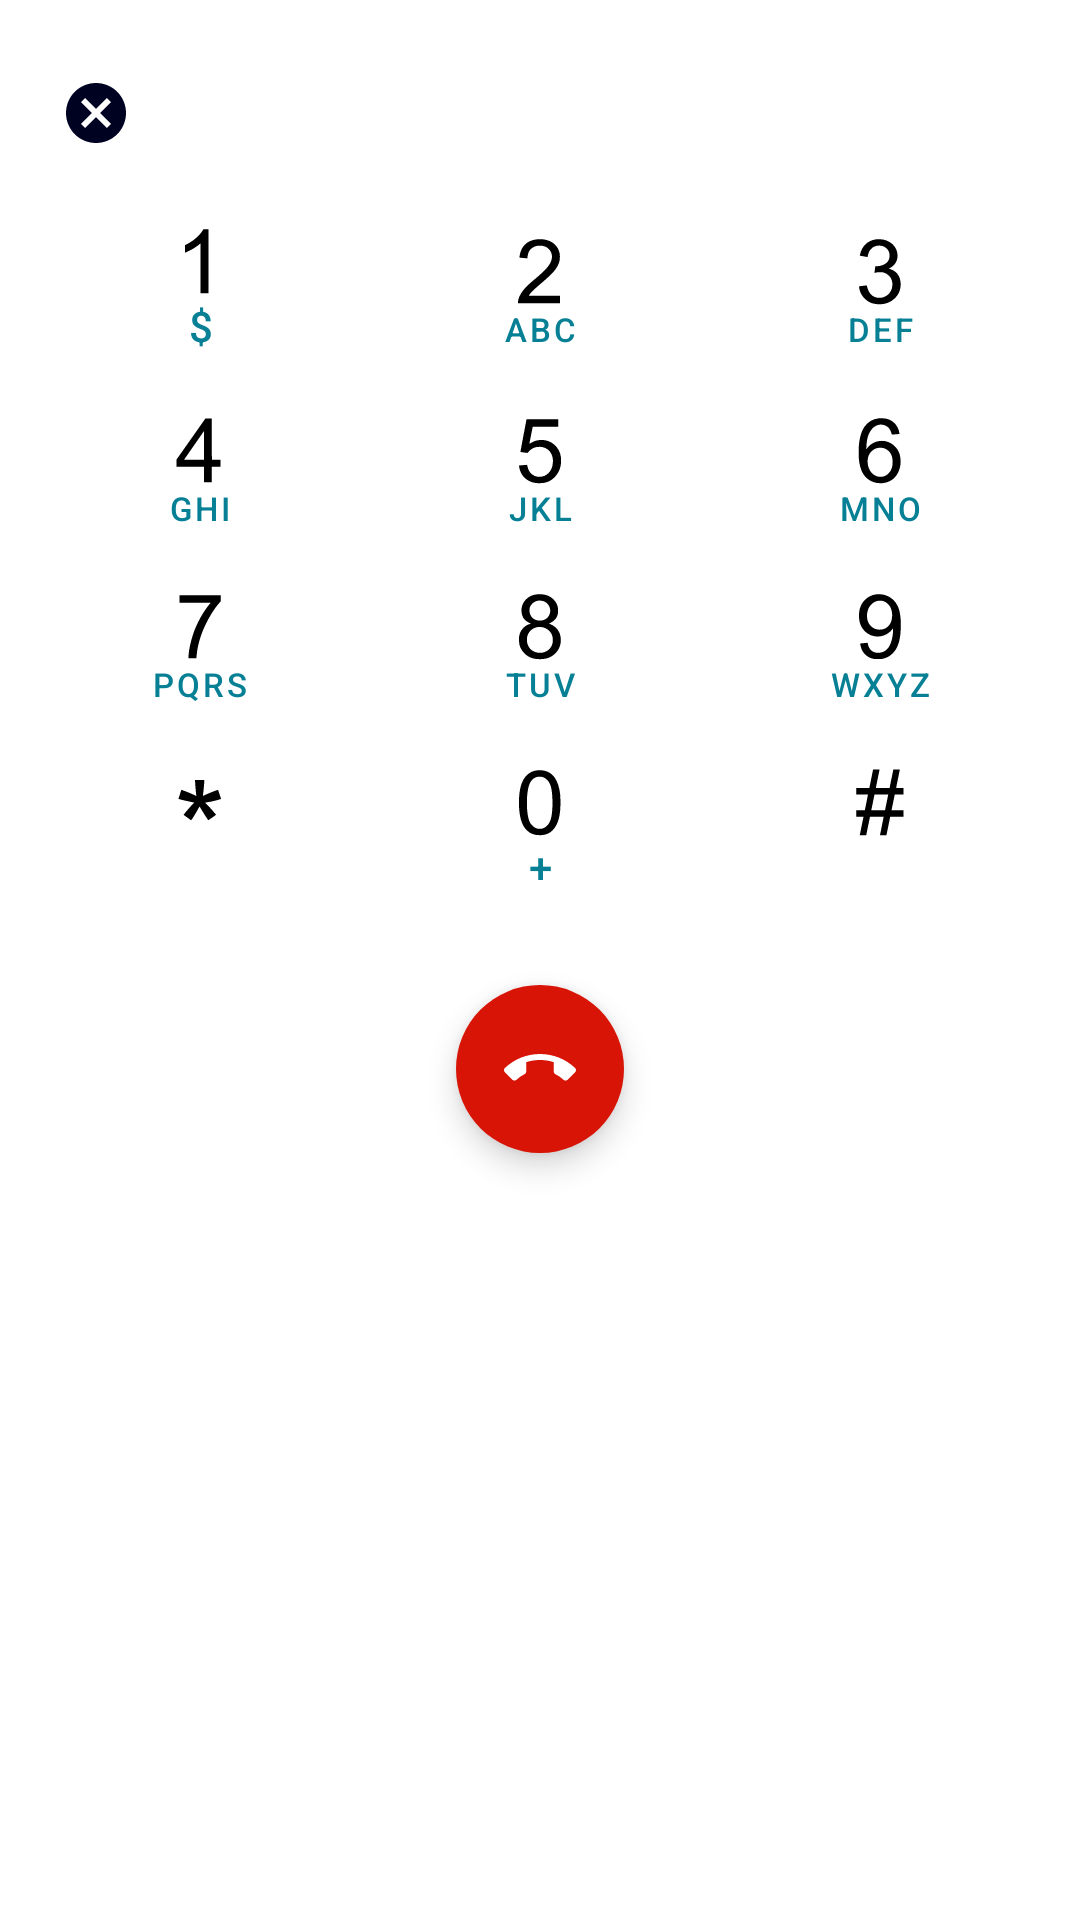

Icon click points for this 1080*1920 phone screenshot, format (x,y):
cancel: (96,113)
End Call: (540,1069)
